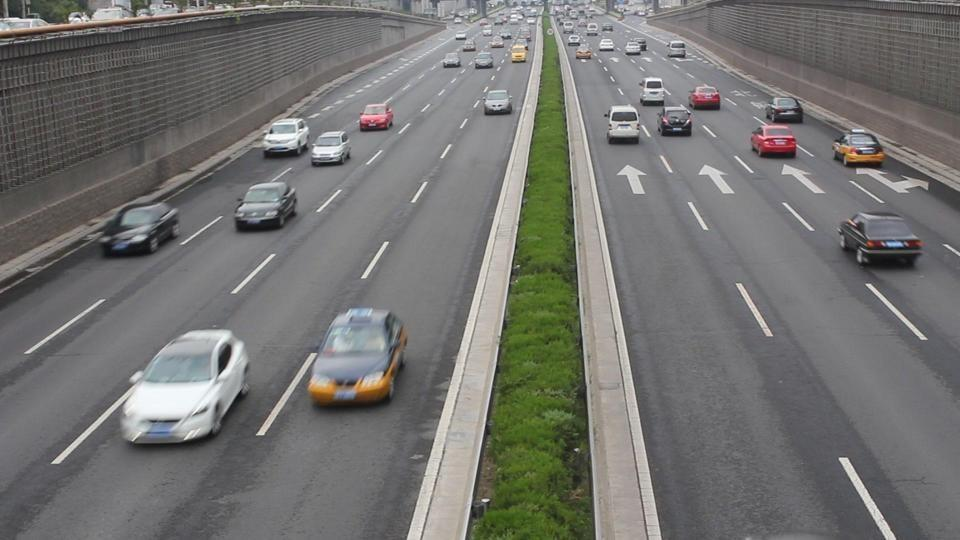car: (118, 329, 252, 446), (306, 307, 408, 407), (836, 209, 927, 267), (100, 202, 182, 258), (234, 181, 300, 232), (830, 129, 886, 167), (262, 118, 310, 157), (749, 122, 798, 158), (310, 131, 352, 166), (606, 105, 640, 143), (762, 96, 804, 124), (359, 102, 396, 131), (658, 108, 694, 136), (687, 84, 721, 110), (638, 76, 667, 106), (482, 89, 513, 115), (509, 41, 529, 63), (666, 39, 687, 59), (474, 52, 494, 69), (625, 39, 646, 55), (443, 52, 462, 68), (599, 37, 615, 51)
